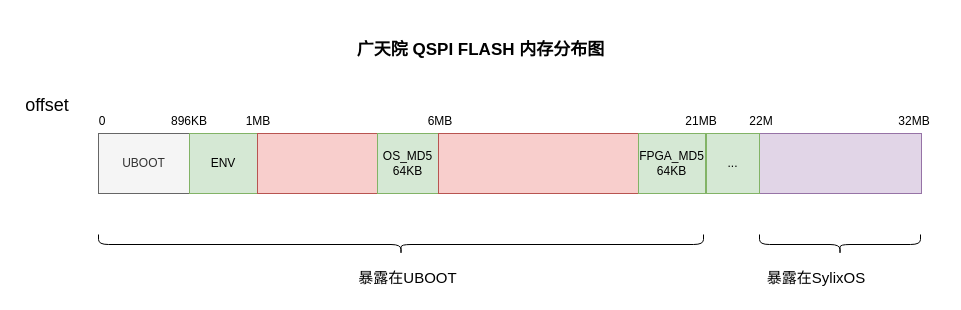
This 961x310 diagram has some shape labels left out. Each missing label, with the centre of its shape:
FPGA: (538,163)
OS: (317,163)
yaffs文件系统: (840,163)
